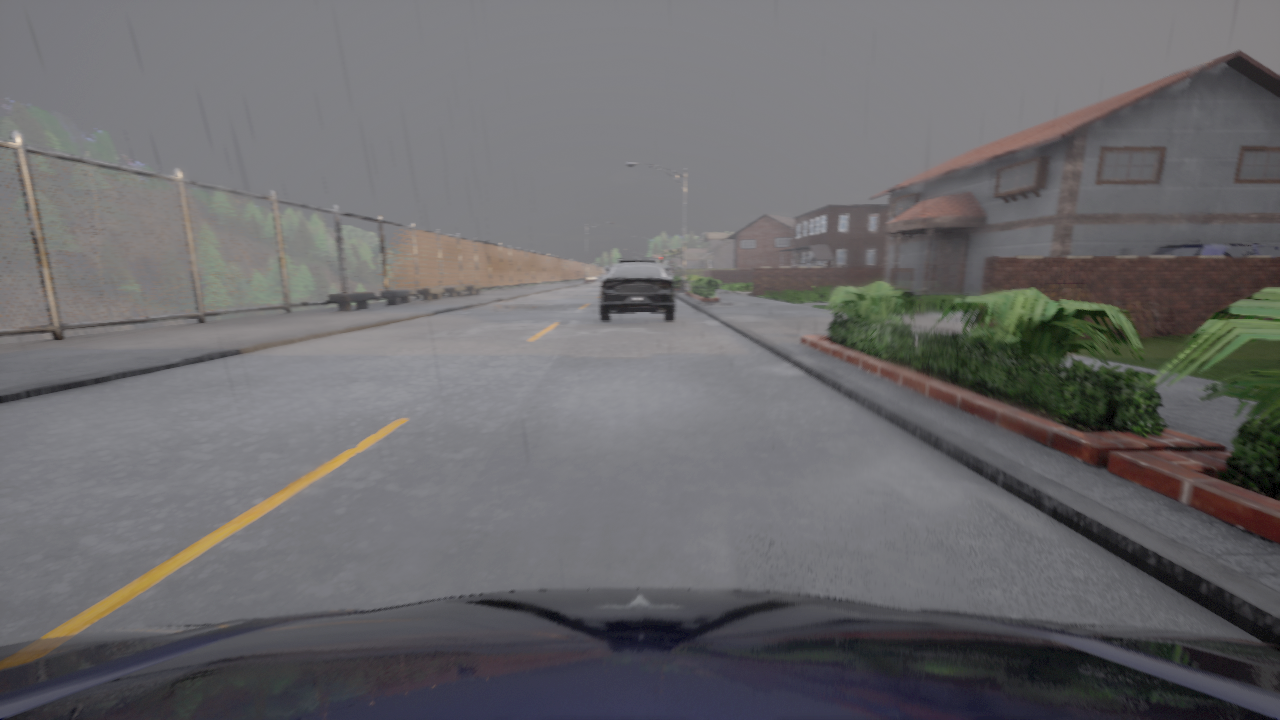cyclist: (0, 588, 1279, 719), (600, 258, 674, 320), (1149, 243, 1279, 256), (879, 262, 883, 266)
